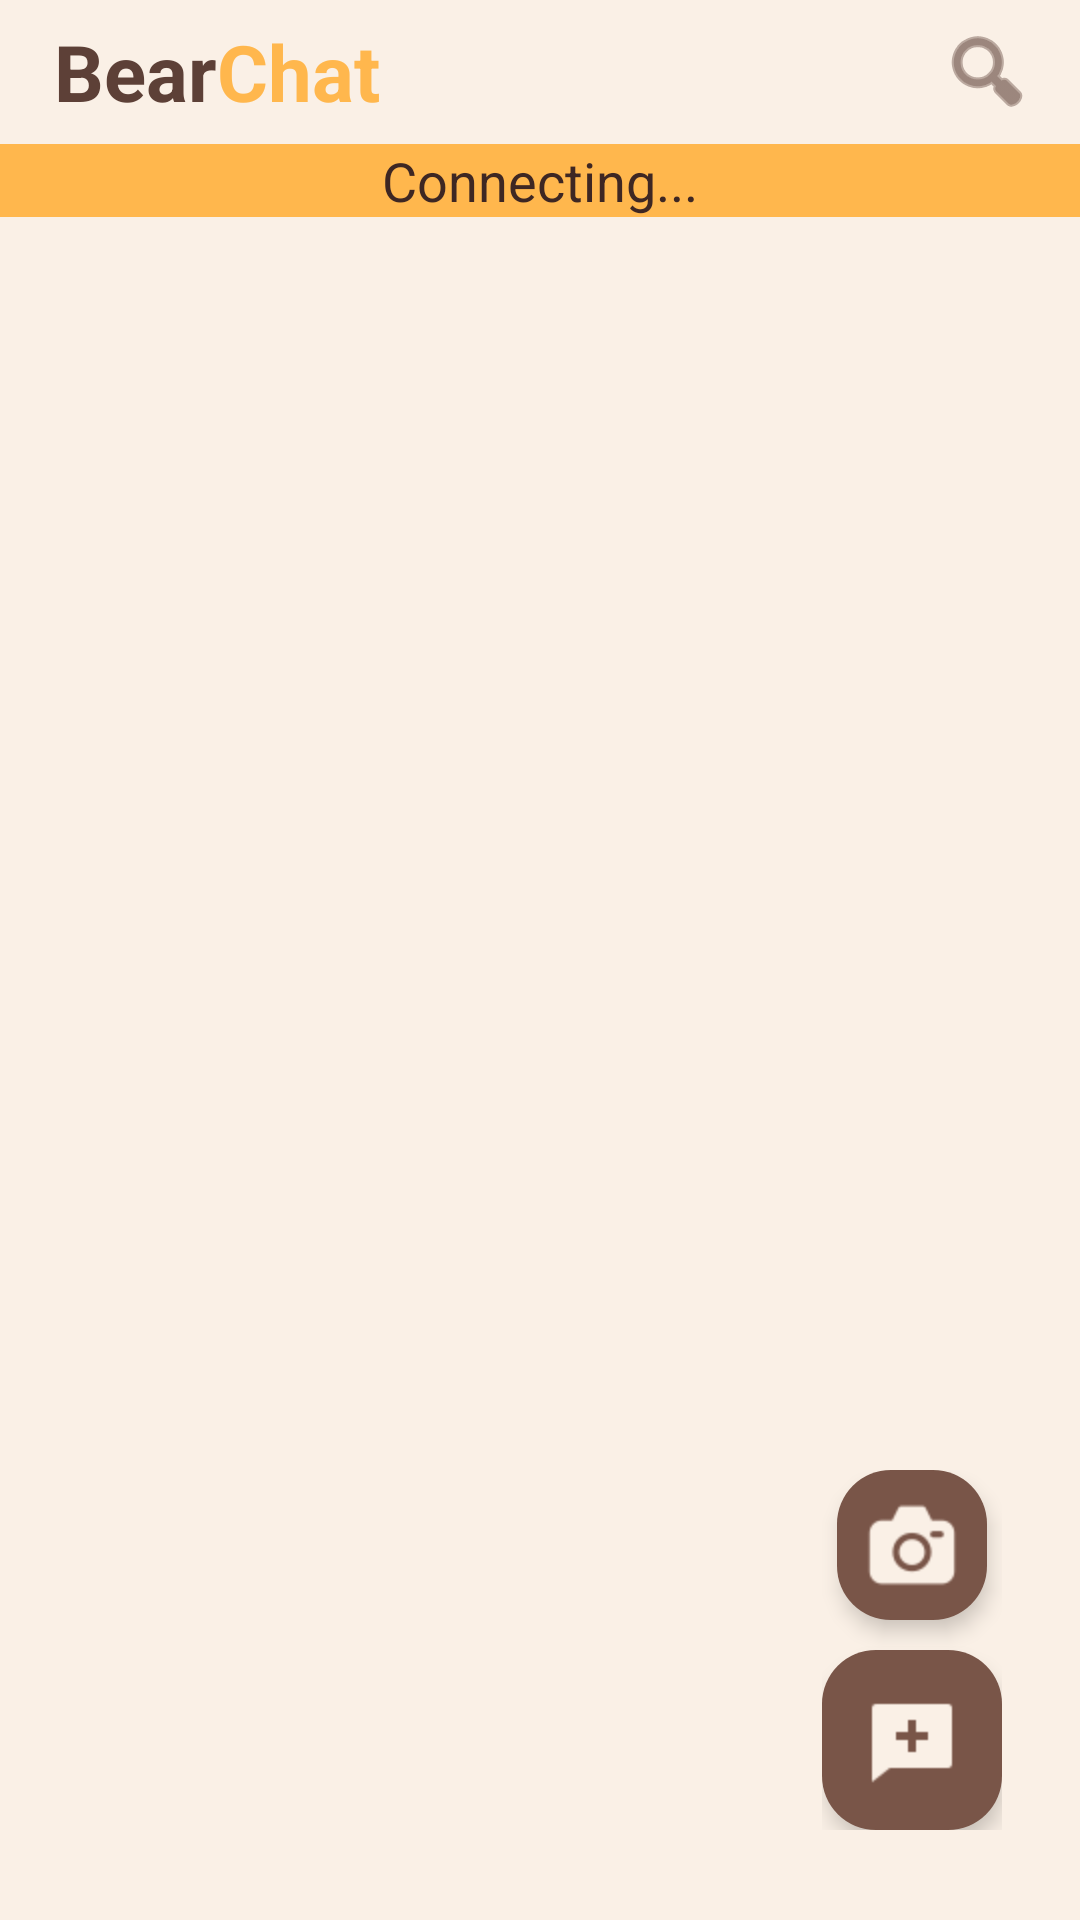

Screen size 1080px×1920px. Icon name, then its box in pixels as (x1, y1, x2, y2):
camera: (837, 1470, 987, 1620)
message: (822, 1650, 1002, 1830)
search: (952, 36, 1022, 107)
